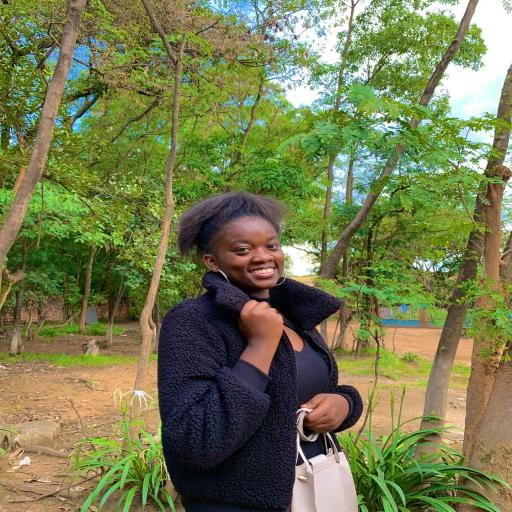LAURENE: (172, 184, 295, 302)
